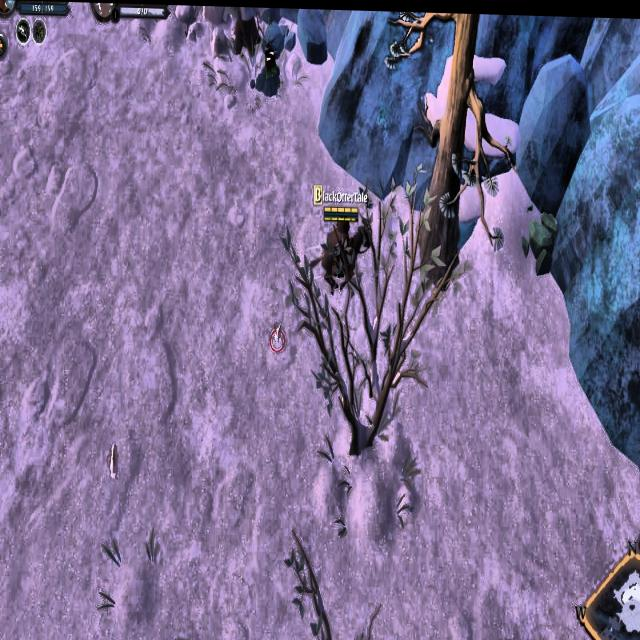sandstone: (523, 201, 560, 274)
tinore: (249, 45, 282, 96)
